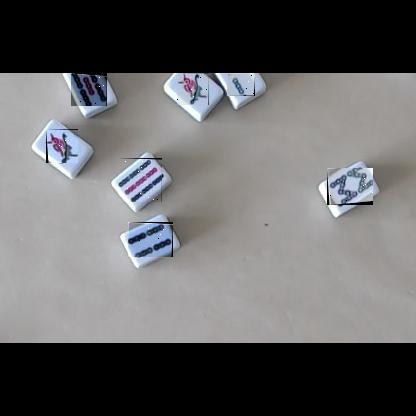1s: (46, 129, 78, 163), (177, 73, 209, 105)
2s: (227, 73, 255, 96)
4s: (128, 222, 173, 257)
5s: (71, 73, 107, 106)
8s: (327, 168, 373, 205)
9s: (118, 158, 162, 202)
